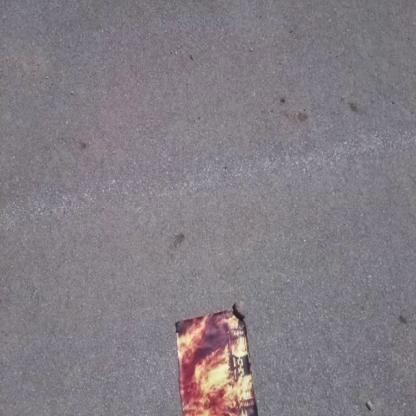fire-poster: (174, 303, 260, 415)
